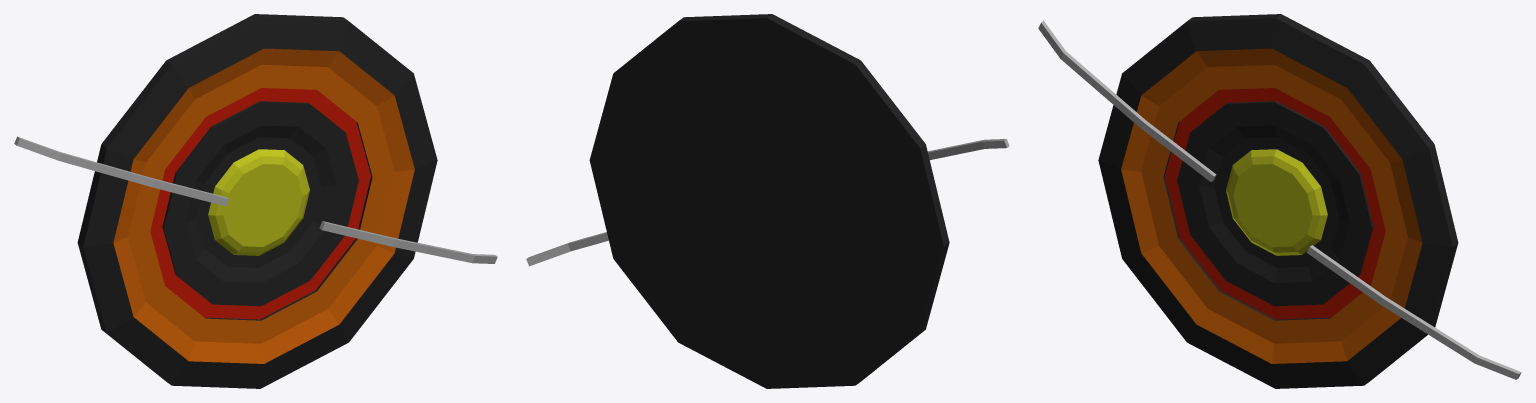
3 renders of one model, left to right at view 1: azimuth 30°, elevation 25°; view 2: azimuth 150°, elevation 25°; view 3: azimuth 330°, elevation 25°, orthographic.
Parts seen in each view (by area): view 1: CafeLogo1; view 2: CafeLogo1; view 3: CafeLogo1.
Part boxes in pixels (box(x1,y1,x2,y2)): CafeLogo1: box(14, 14, 497, 388); CafeLogo1: box(526, 14, 1009, 388); CafeLogo1: box(1038, 14, 1521, 388).
Bounding box in the file's own units: 2.71 × 2 × 0.2044.
